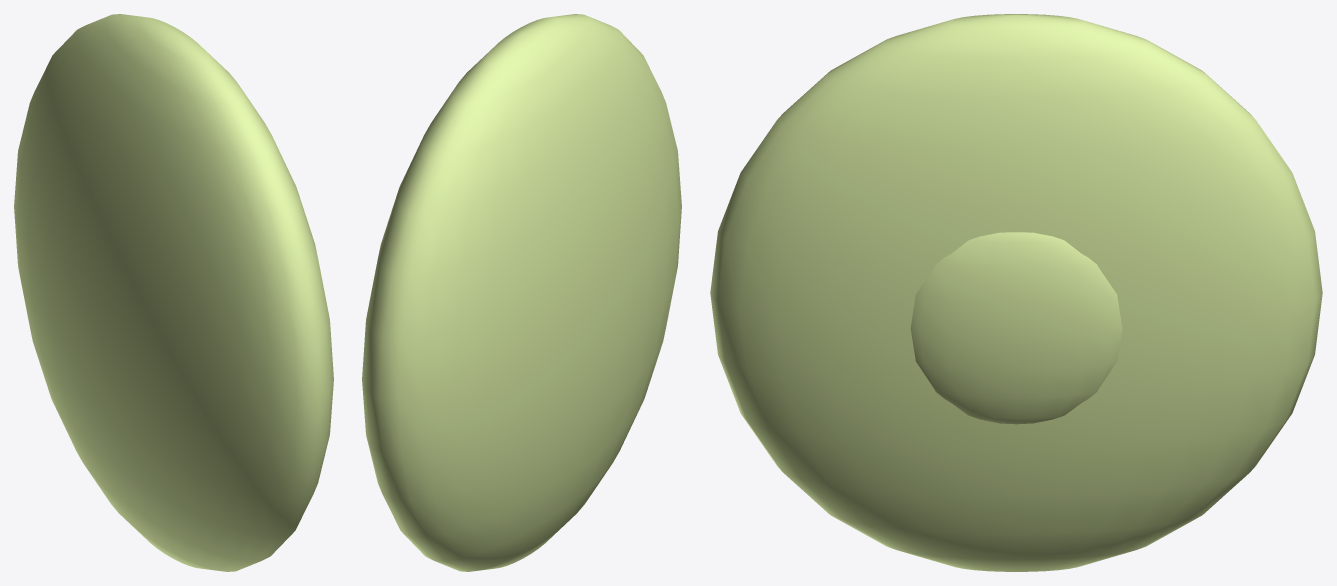
Rendered from headlight_led.glb.
3 renders of one model, left to right at view 1: azimuth 30°, elevation 25°; view 2: azimuth 150°, elevation 25°; view 3: azimuth 270°, elevation 25°, orthographic. The views are drawn at different scales.
Visible parts, largest first — view 1: S51_Headlight_LED; view 2: S51_Headlight_LED; view 3: S51_Headlight_LED.
Boxes of the visible parts, x1,y1,x2,y2 form: S51_Headlight_LED: (14, 14, 333, 571); S51_Headlight_LED: (362, 14, 681, 571); S51_Headlight_LED: (710, 14, 1322, 571).
Size of the model in its own units: 0.13 by 0.41 by 0.41.
